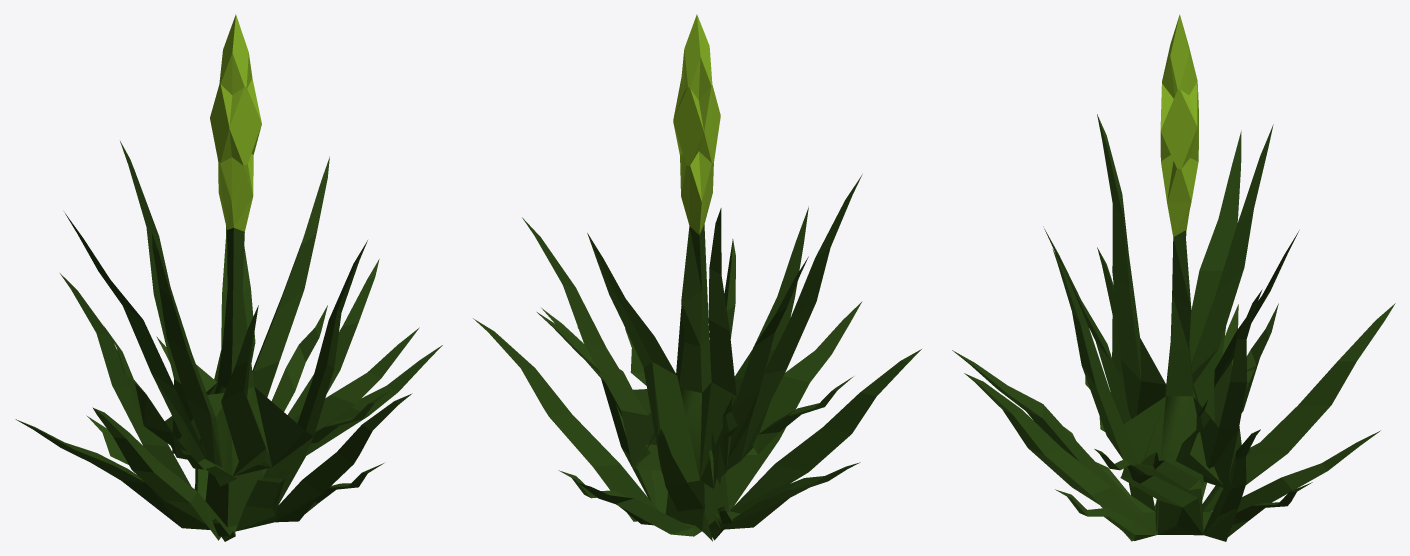
File: SorghumStage1.fbx
3 views of the same model, side by side, from view 1: azimuth 30°, elevation 25°; view 2: azimuth 150°, elevation 25°; view 3: azimuth 270°, elevation 25° (orthographic).
Visible parts, largest first — view 1: Rectangle005; view 2: Rectangle005; view 3: Rectangle005.
Boxes of the visible parts, left/top/right/bottom form: Rectangle005: left=15, top=14, right=442, bottom=541; Rectangle005: left=473, top=14, right=921, bottom=541; Rectangle005: left=952, top=14, right=1395, bottom=541.
Size of the model in its own units: 141 by 179 by 142.
